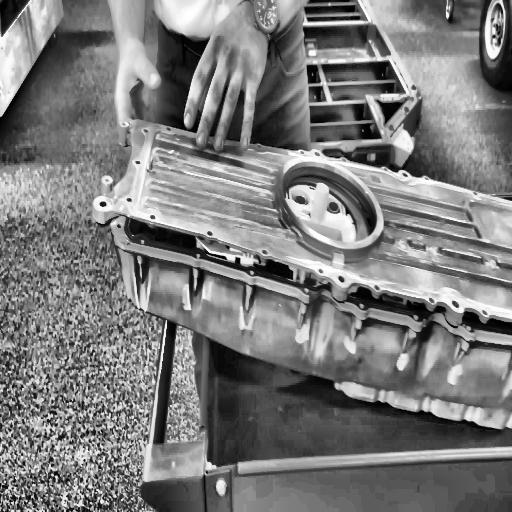bms_unit: (93, 118, 512, 431)
